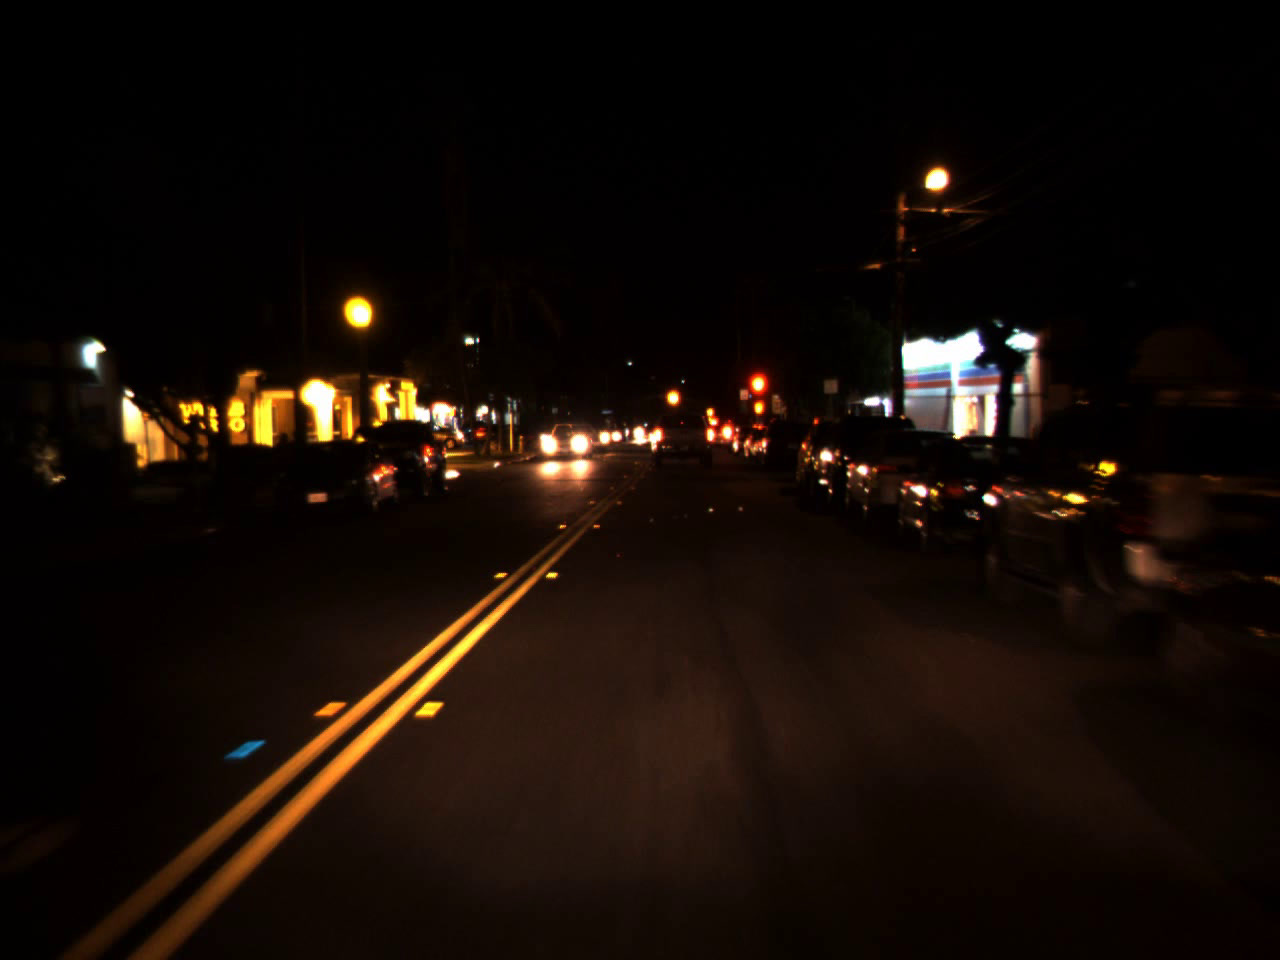stop: (745, 369, 772, 423)
warning: (665, 377, 683, 417), (703, 403, 714, 419)
